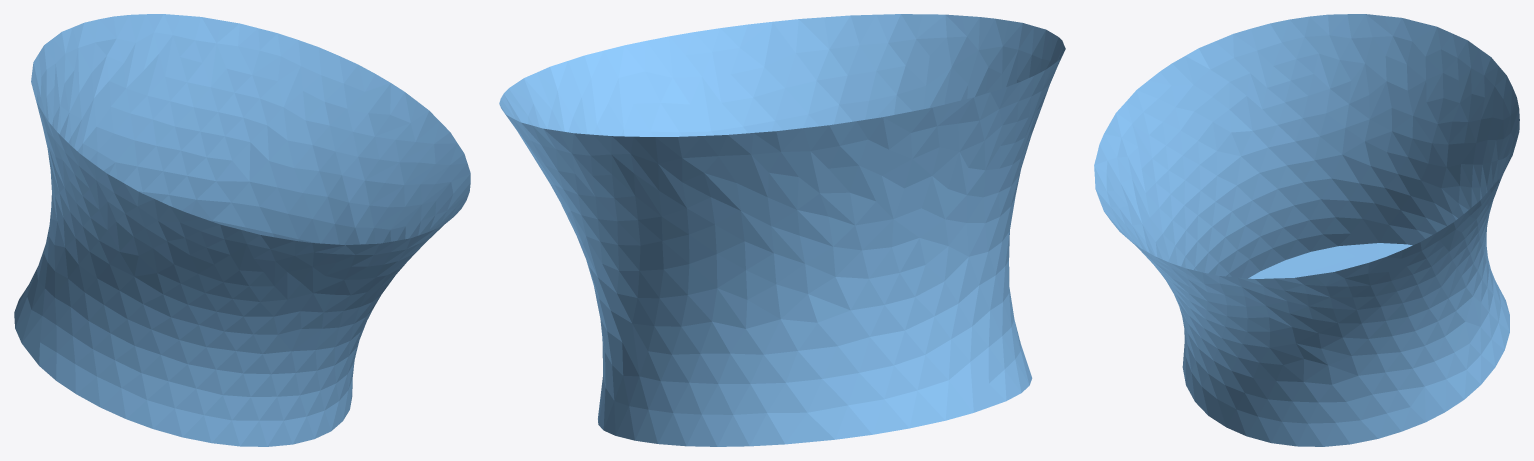
Rendered from cup.glb.
3 renders of one model, left to right at view 1: azimuth 30°, elevation 25°; view 2: azimuth 150°, elevation 25°; view 3: azimuth 270°, elevation 25°, orthographic. The views are drawn at different scales.
Parts seen in each view (by area): view 1: cup001; view 2: cup001; view 3: cup001.
Boxes of the visible parts, x1=… form: cup001: x1=14, y1=14, x2=470, y2=446; cup001: x1=499, y1=14, x2=1065, y2=446; cup001: x1=1094, y1=14, x2=1519, y2=446.
Size of the model in its own units: 6.06 by 4.87 by 6.07.
